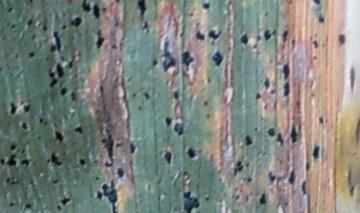tarspot: (95, 178, 126, 212), (99, 129, 119, 168), (161, 37, 179, 72), (180, 189, 201, 212), (208, 47, 226, 68), (48, 31, 64, 54), (287, 121, 300, 147), (229, 158, 245, 179), (134, 1, 148, 22), (180, 49, 194, 70), (68, 13, 86, 29), (207, 26, 223, 43), (93, 32, 107, 51), (185, 144, 199, 162), (49, 150, 62, 169), (5, 100, 18, 118), (51, 130, 67, 144), (280, 63, 294, 79), (162, 149, 175, 166), (5, 152, 18, 169), (264, 166, 276, 184), (54, 62, 68, 77), (238, 30, 250, 47), (76, 155, 88, 171), (127, 140, 139, 156), (312, 143, 322, 162), (299, 178, 309, 197), (92, 1, 101, 22), (243, 131, 254, 148), (161, 113, 174, 127), (193, 30, 207, 43), (257, 191, 269, 206), (287, 168, 297, 186), (281, 80, 291, 98), (175, 122, 186, 138), (337, 31, 348, 47), (20, 156, 32, 170), (140, 88, 152, 102), (80, 1, 92, 14), (171, 88, 182, 102), (280, 28, 289, 44), (19, 120, 30, 132), (60, 194, 72, 205), (253, 90, 264, 102), (266, 126, 277, 138), (262, 29, 273, 41), (21, 102, 33, 113), (262, 77, 272, 90), (316, 113, 326, 126), (75, 122, 83, 138), (115, 168, 126, 179), (57, 86, 69, 96), (25, 49, 37, 59), (201, 1, 213, 11), (243, 175, 255, 185), (23, 200, 33, 212), (150, 56, 159, 69), (25, 17, 34, 30), (68, 91, 77, 104), (311, 1, 325, 9), (316, 13, 327, 23), (303, 161, 312, 173), (8, 140, 16, 151), (36, 115, 44, 126), (312, 38, 319, 50), (40, 23, 49, 32), (1, 154, 5, 167)
